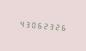four: (17, 17, 22, 29)
six: (35, 19, 40, 30), (59, 21, 64, 32)
three: (23, 18, 28, 29), (47, 20, 52, 31)
two: (41, 19, 46, 31), (53, 20, 58, 32)
zero: (29, 18, 34, 30)
